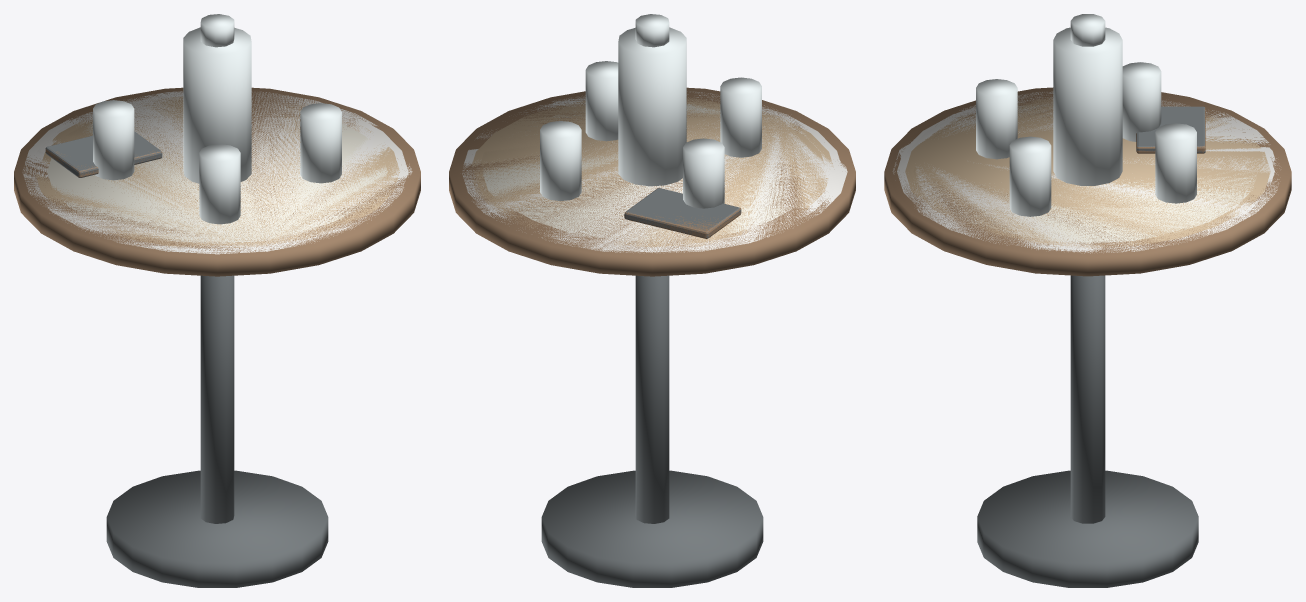
Rendered from Gear17.fbx.
3 renders of one model, left to right at view 1: azimuth 30°, elevation 25°; view 2: azimuth 150°, elevation 25°; view 3: azimuth 270°, elevation 25°, orthographic.
Parts seen in each view (by area): view 1: Gear17_V1_Charcoal, Gear17_V10_Walnut, Gear17_V2_Ivory, Gear17_V1_Acrylic, Gear17_V8_Quartz, Gear17_V4_Oak, Gear17_V7_Quartz, Gear17_V1_Ivory, Gear17_V10_Acrylic, Gear17_V5_Oak, Gear17_V6_Quartz, Gear17_V9_Walnut (+3 smaller); view 2: Gear17_V1_Charcoal, Gear17_V10_Walnut, Gear17_V1_Acrylic, Gear17_V10_Acrylic, Gear17_V6_Quartz, Gear17_V4_Oak, Gear17_V3_Oak, Gear17_V1_Ivory, Gear17_V7_Quartz, Gear17_V5_Oak, Gear17_V6_Charcoal, Gear17_V8_Quartz (+2 smaller); view 3: Gear17_V1_Charcoal, Gear17_V5_Oak, Gear17_V10_Walnut, Gear17_V1_Acrylic, Gear17_V10_Acrylic, Gear17_V6_Quartz, Gear17_V2_Ivory, Gear17_V9_Walnut, Gear17_V3_Oak, Gear17_V1_Ivory, Gear17_V8_Quartz, Gear17_V4_Oak (+2 smaller).
Part boxes in pixels (box(x1,y1,x2,y2)): Gear17_V1_Charcoal: box(106, 275, 328, 587); Gear17_V10_Walnut: box(14, 87, 420, 276); Gear17_V2_Ivory: box(47, 116, 387, 243); Gear17_V1_Acrylic: box(183, 14, 251, 224); Gear17_V8_Quartz: box(22, 91, 412, 254); Gear17_V4_Oak: box(41, 99, 395, 246); Gear17_V7_Quartz: box(27, 93, 408, 252); Gear17_V1_Ivory: box(55, 104, 383, 241); Gear17_V10_Acrylic: box(93, 100, 341, 183); Gear17_V5_Oak: box(36, 96, 399, 247); Gear17_V6_Quartz: box(32, 95, 404, 248); Gear17_V9_Walnut: box(18, 89, 415, 255); Gear17_V1_Charcoal: box(541, 275, 763, 587); Gear17_V10_Walnut: box(449, 87, 855, 276); Gear17_V1_Acrylic: box(618, 14, 761, 186); Gear17_V10_Acrylic: box(540, 61, 724, 208); Gear17_V6_Quartz: box(466, 99, 838, 249); Gear17_V4_Oak: box(474, 98, 828, 247); Gear17_V3_Oak: box(478, 100, 824, 244); Gear17_V1_Ivory: box(486, 104, 797, 241); Gear17_V7_Quartz: box(462, 95, 842, 252); Gear17_V5_Oak: box(470, 97, 833, 246); Gear17_V6_Charcoal: box(624, 188, 740, 238); Gear17_V8_Quartz: box(473, 91, 847, 252); Gear17_V1_Charcoal: box(977, 275, 1198, 587); Gear17_V5_Oak: box(905, 98, 1270, 248); Gear17_V10_Walnut: box(884, 87, 1291, 276); Gear17_V1_Acrylic: box(976, 14, 1122, 185); Gear17_V10_Acrylic: box(1009, 62, 1196, 216); Gear17_V6_Quartz: box(901, 96, 1274, 250); Gear17_V2_Ivory: box(938, 104, 1256, 243); Gear17_V9_Walnut: box(888, 89, 1286, 255); Gear17_V3_Oak: box(913, 99, 1261, 244); Gear17_V1_Ivory: box(943, 103, 1251, 241); Gear17_V8_Quartz: box(892, 91, 1279, 253); Gear17_V4_Oak: box(909, 98, 1266, 246).
Size of the model in its own units: 58.8 by 83 by 58.8.
